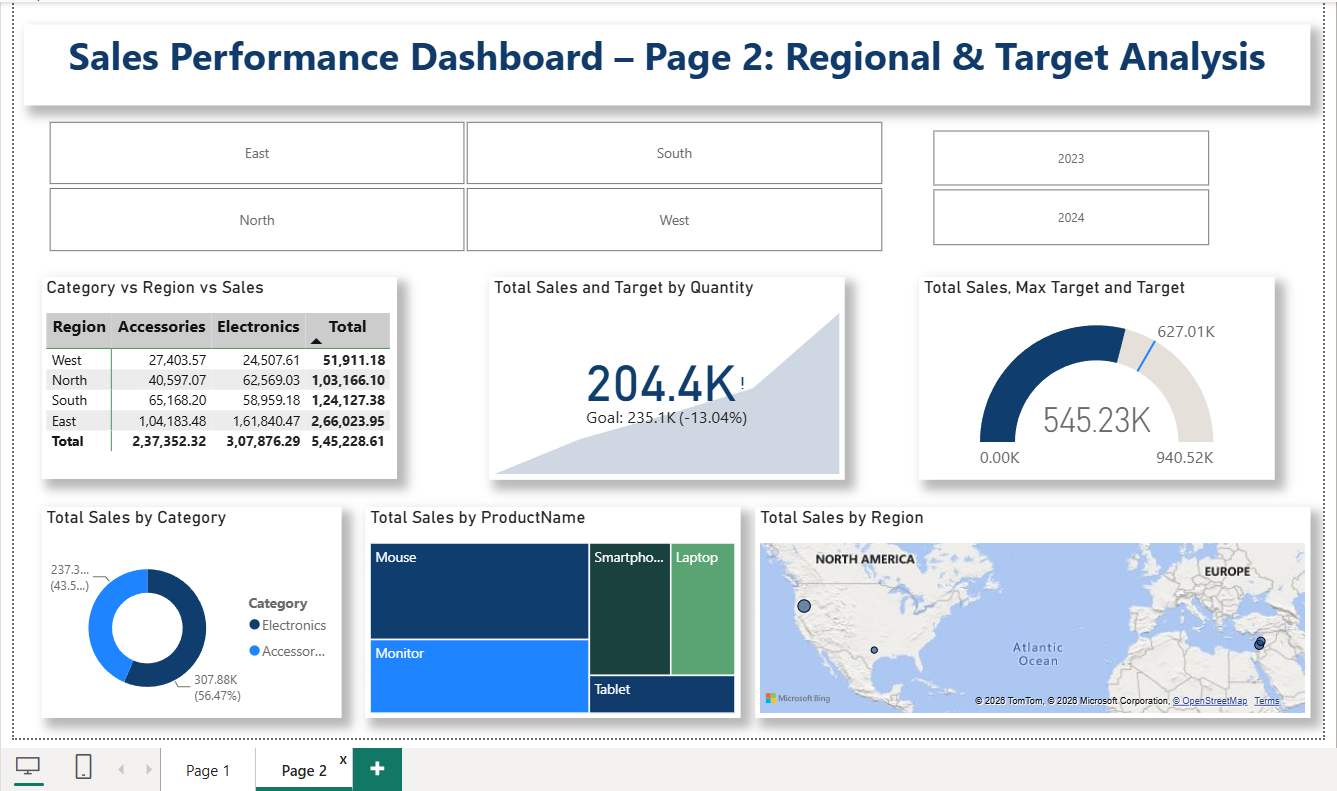

The dashboard page shown, as its layout file describes it:
{"tool":"powerbi","page":{"name":"Page 2","canvas":[1280,720],"ordinal":1},"visuals":[{"type":"slicer","fields":{"Values":["Dim_Customers.Region"]},"box":[8.6,110.1,864.5,140.6],"z":0},{"type":"slicer","fields":{"Values":["Dim_Date.Year"]},"box":[873.1,118.6,320.4,126],"z":1000},{"type":"pivotTable","title":"Category vs Region vs Sales","fields":{"Rows":["Dim_Customers.Region"],"Columns":["Dim_Products.Category"],"Values":["Fact_Sales.Total Sales"]},"box":[26.9,269,347.7,197.7],"z":2000},{"type":"kpi","fields":{"Indicator":["Fact_Sales.Total Sales"],"Goal":["Fact_Sales.Target"],"TrendLine":["Fact_Sales.Quantity"]},"box":[464.7,269,348,198],"z":3000},{"type":"gauge","fields":{"Y":["Fact_Sales.Total Sales"],"TargetValue":["Fact_Sales.Target"],"MaxValue":["Fact_Sales.Max Target"]},"box":[885.3,269,348,198],"z":4000},{"type":"donutChart","fields":{"Category":["Dim_Products.Category"],"Y":["Fact_Sales.Total Sales"]},"box":[26.9,494,293.5,206.7],"z":5000},{"type":"treemap","fields":{"Group":["Dim_Products.ProductName"],"Values":["Fact_Sales.Total Sales"]},"box":[343.6,494,366.8,206.7],"z":6000},{"type":"map","fields":{"Category":["Dim_Customers.Region"],"Size":["Fact_Sales.Total Sales"]},"box":[725.1,494,542.9,206.7],"z":7000},{"type":"textbox","box":[9.8,22,1258.3,79.5],"z":7001}]}

Visuals, with their boxes on the page's 1280x720 design canvas (x1, y1, x2, y2). These are canvas units, not pixel positions in the 1337x791 screenshot, which may show the page scaled, cropped or inside an application window:
slicer - Dim_Customers.Region: 9 110 873 251
slicer - Dim_Date.Year: 873 119 1194 245
"Category vs Region vs Sales" pivotTable: 27 269 375 467
kpi - Fact_Sales.Total Sales x Fact_Sales.Target: 465 269 813 467
gauge - Fact_Sales.Total Sales x Fact_Sales.Target: 885 269 1233 467
donutChart - Dim_Products.Category x Fact_Sales.Total Sales: 27 494 320 701
treemap - Dim_Products.ProductName x Fact_Sales.Total Sales: 344 494 710 701
map - Dim_Customers.Region x Fact_Sales.Total Sales: 725 494 1268 701
textbox: 10 22 1268 102
